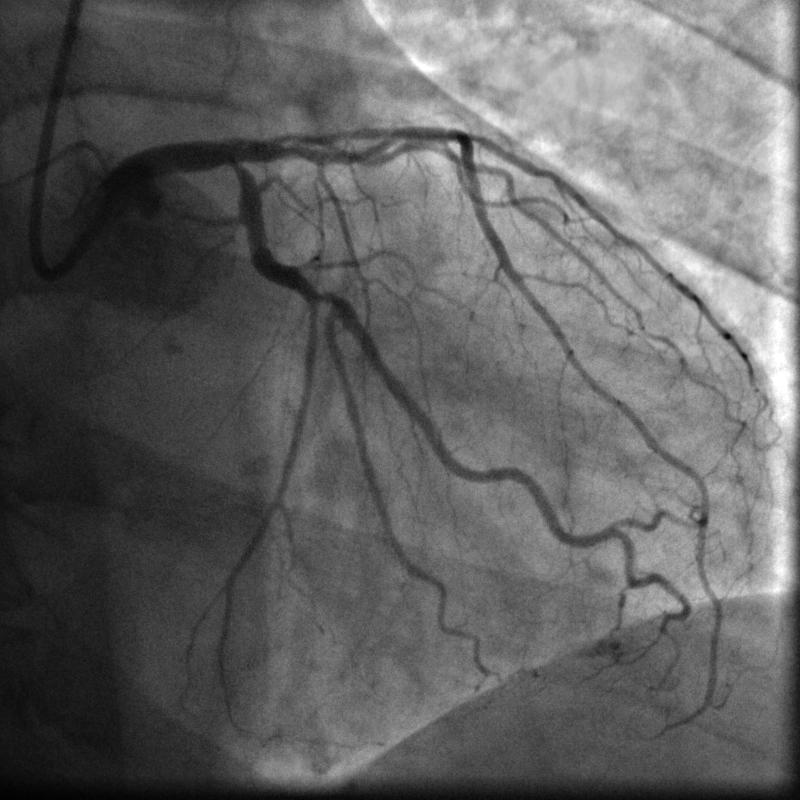Stenosis: (310, 282, 338, 305)
